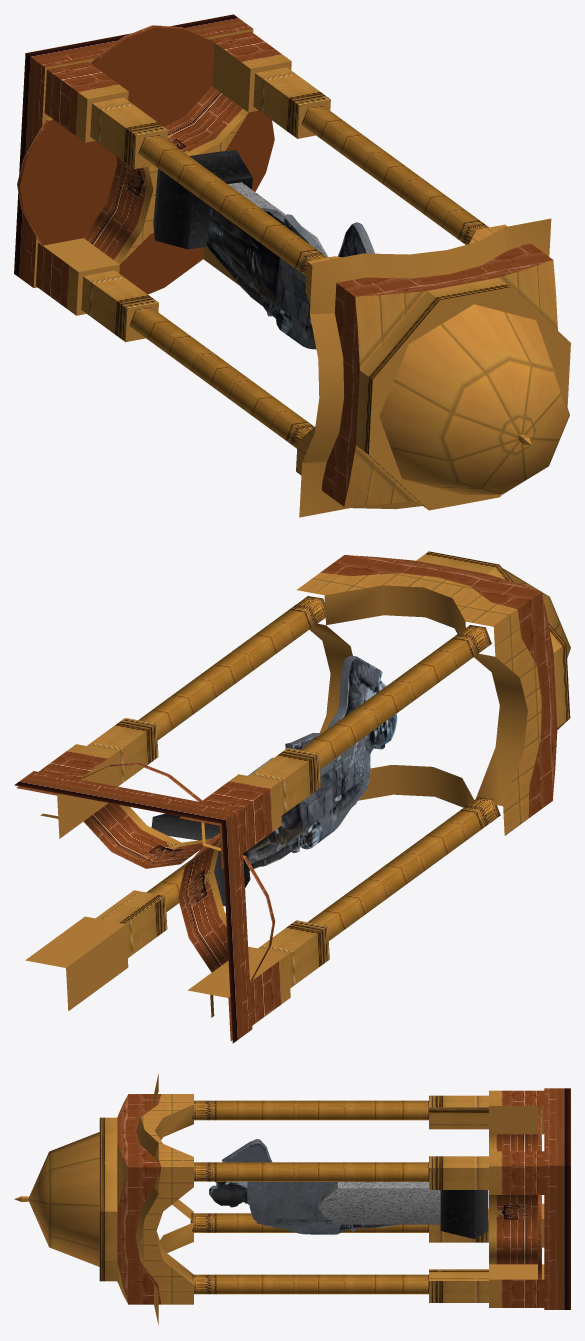
The model's file is DEL_RPC_21.gltf.
3 views of the same model, one above another, from view 1: azimuth 30°, elevation 25°; view 2: azimuth 150°, elevation 25°; view 3: azimuth 270°, elevation 25° (orthographic). The views are drawn at different scales.
Visible parts, largest first — view 1: Rectangle001; view 2: Rectangle001; view 3: Rectangle001.
Part boxes in pixels (x1,y1,x2,y2): Rectangle001: [14, 14, 570, 517]; Rectangle001: [14, 551, 570, 1043]; Rectangle001: [14, 1073, 570, 1325].
Bounding box in the file's own units: 7.85 × 7.85 × 21.85.
Materials: 1 (1 with a texture image).
